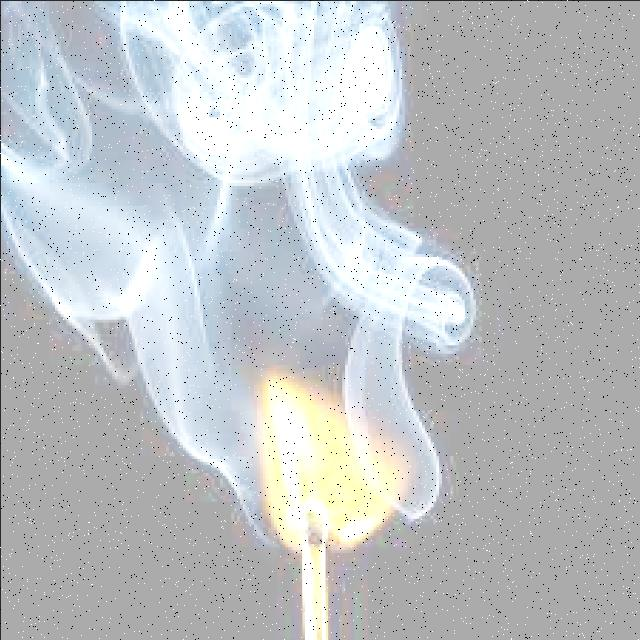api: (226, 357, 431, 545)
